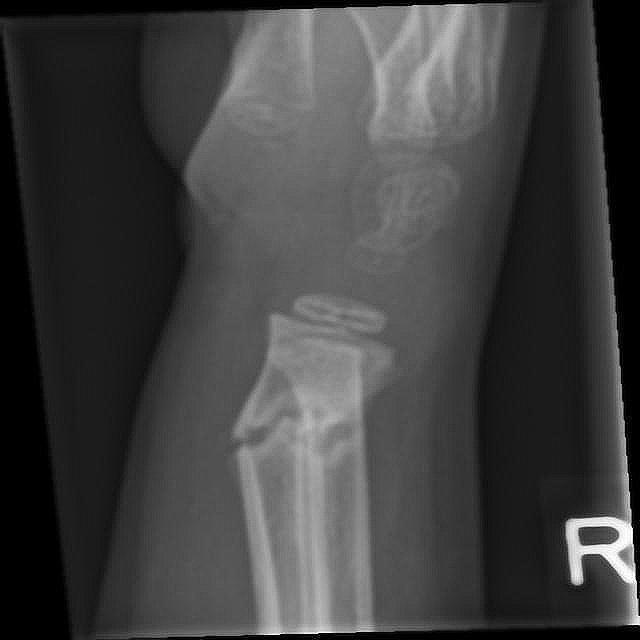bone: (227, 388, 367, 470)
